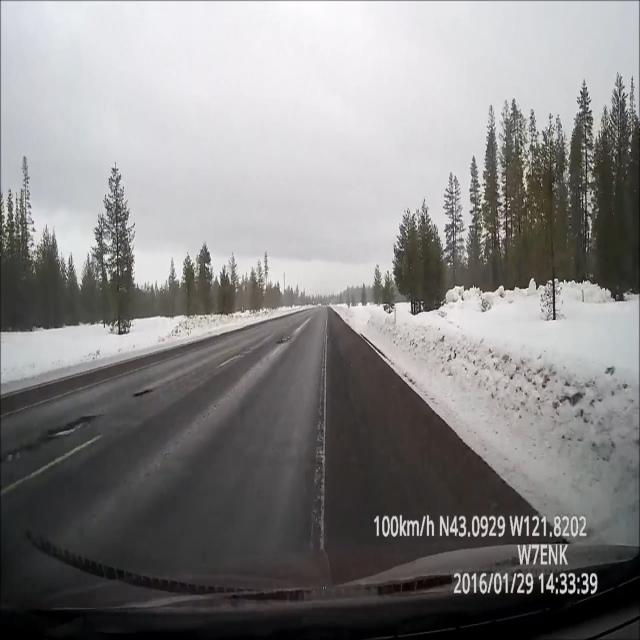Pothole: (12, 411, 109, 468), (125, 381, 159, 403)
